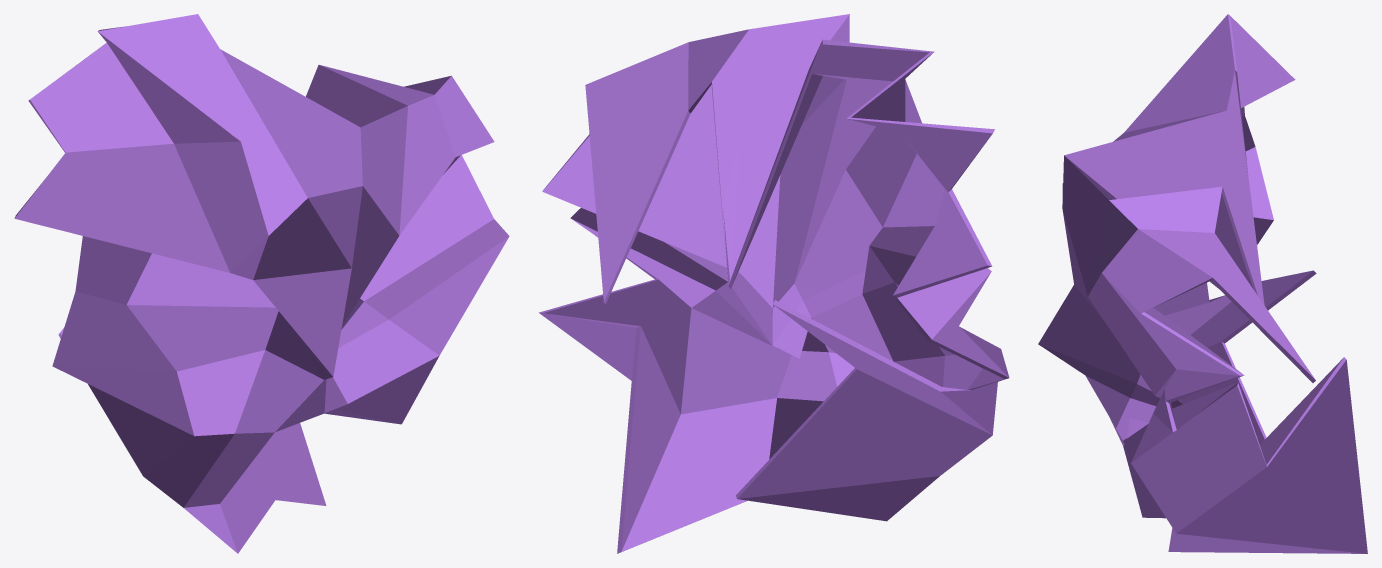
File: PaperAstroid01.fbx
3 renders of one model, left to right at view 1: azimuth 30°, elevation 25°; view 2: azimuth 150°, elevation 25°; view 3: azimuth 270°, elevation 25°, orthographic. The views are drawn at different scales.
Visible parts, largest first — view 1: Plane.001; view 2: Plane.001; view 3: Plane.001.
Part boxes in pixels (box(x1,y1,x2,y2)): Plane.001: box(14, 14, 509, 553); Plane.001: box(539, 14, 1009, 553); Plane.001: box(1038, 14, 1367, 553).
Size of the model in its own units: 409 by 443 by 286.
